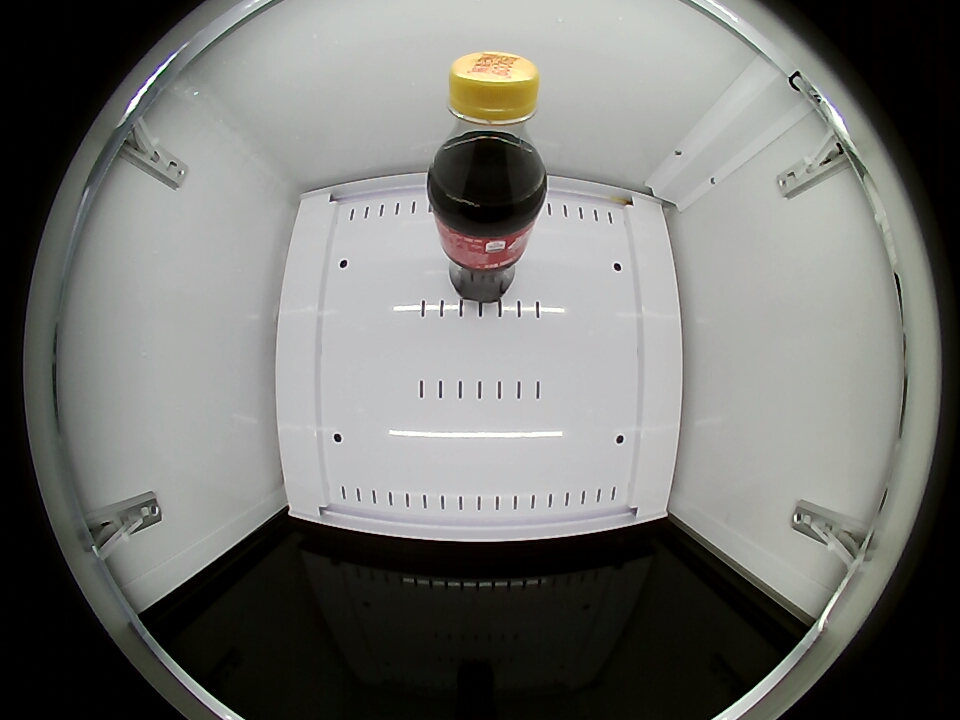kele-b-2: (431, 52, 544, 202)
